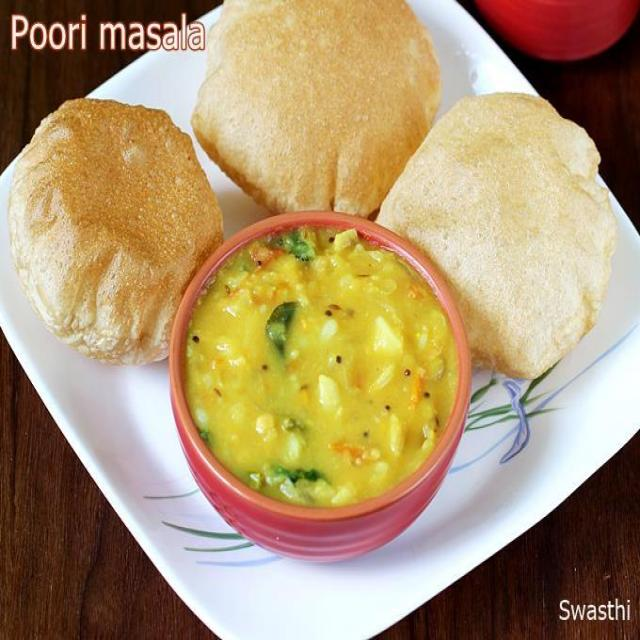poori: (384, 80, 626, 391), (2, 88, 221, 374), (190, 0, 446, 218)
